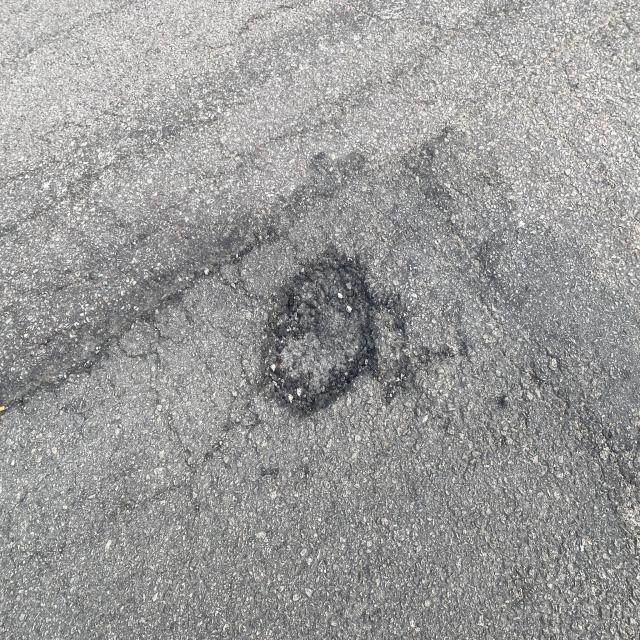pothole: (252, 234, 422, 445)
